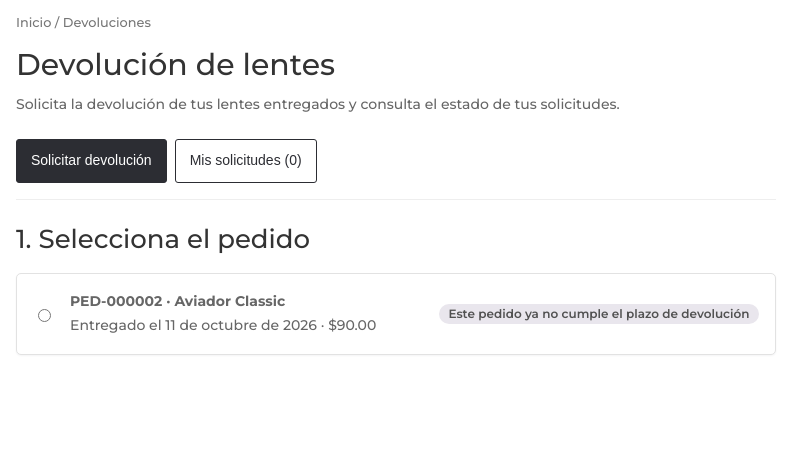
Test: ReturnsPage › A1 / CA3: un pedido fuera de plazo muestra el motivo y no deja solicitar
Click the radio button labelled "PED-000002".
click(44, 315)  # box [38,309,51,322]
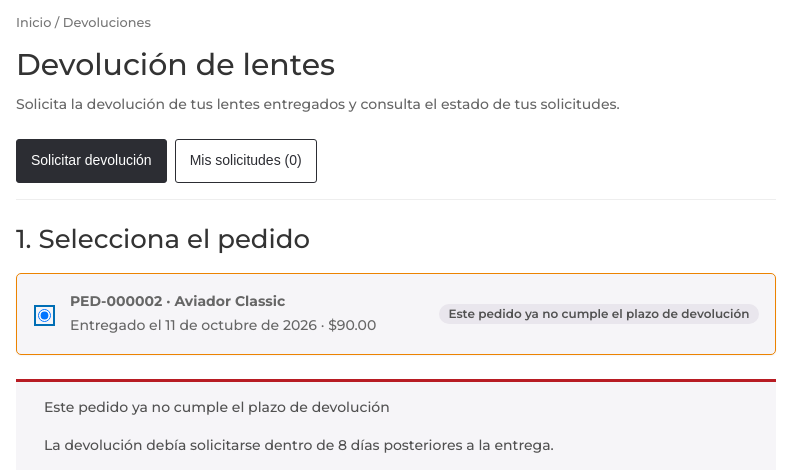
Expected: the message shows "Este pedido ya no cumple el plazo de devolución", [44,398,390,416]
